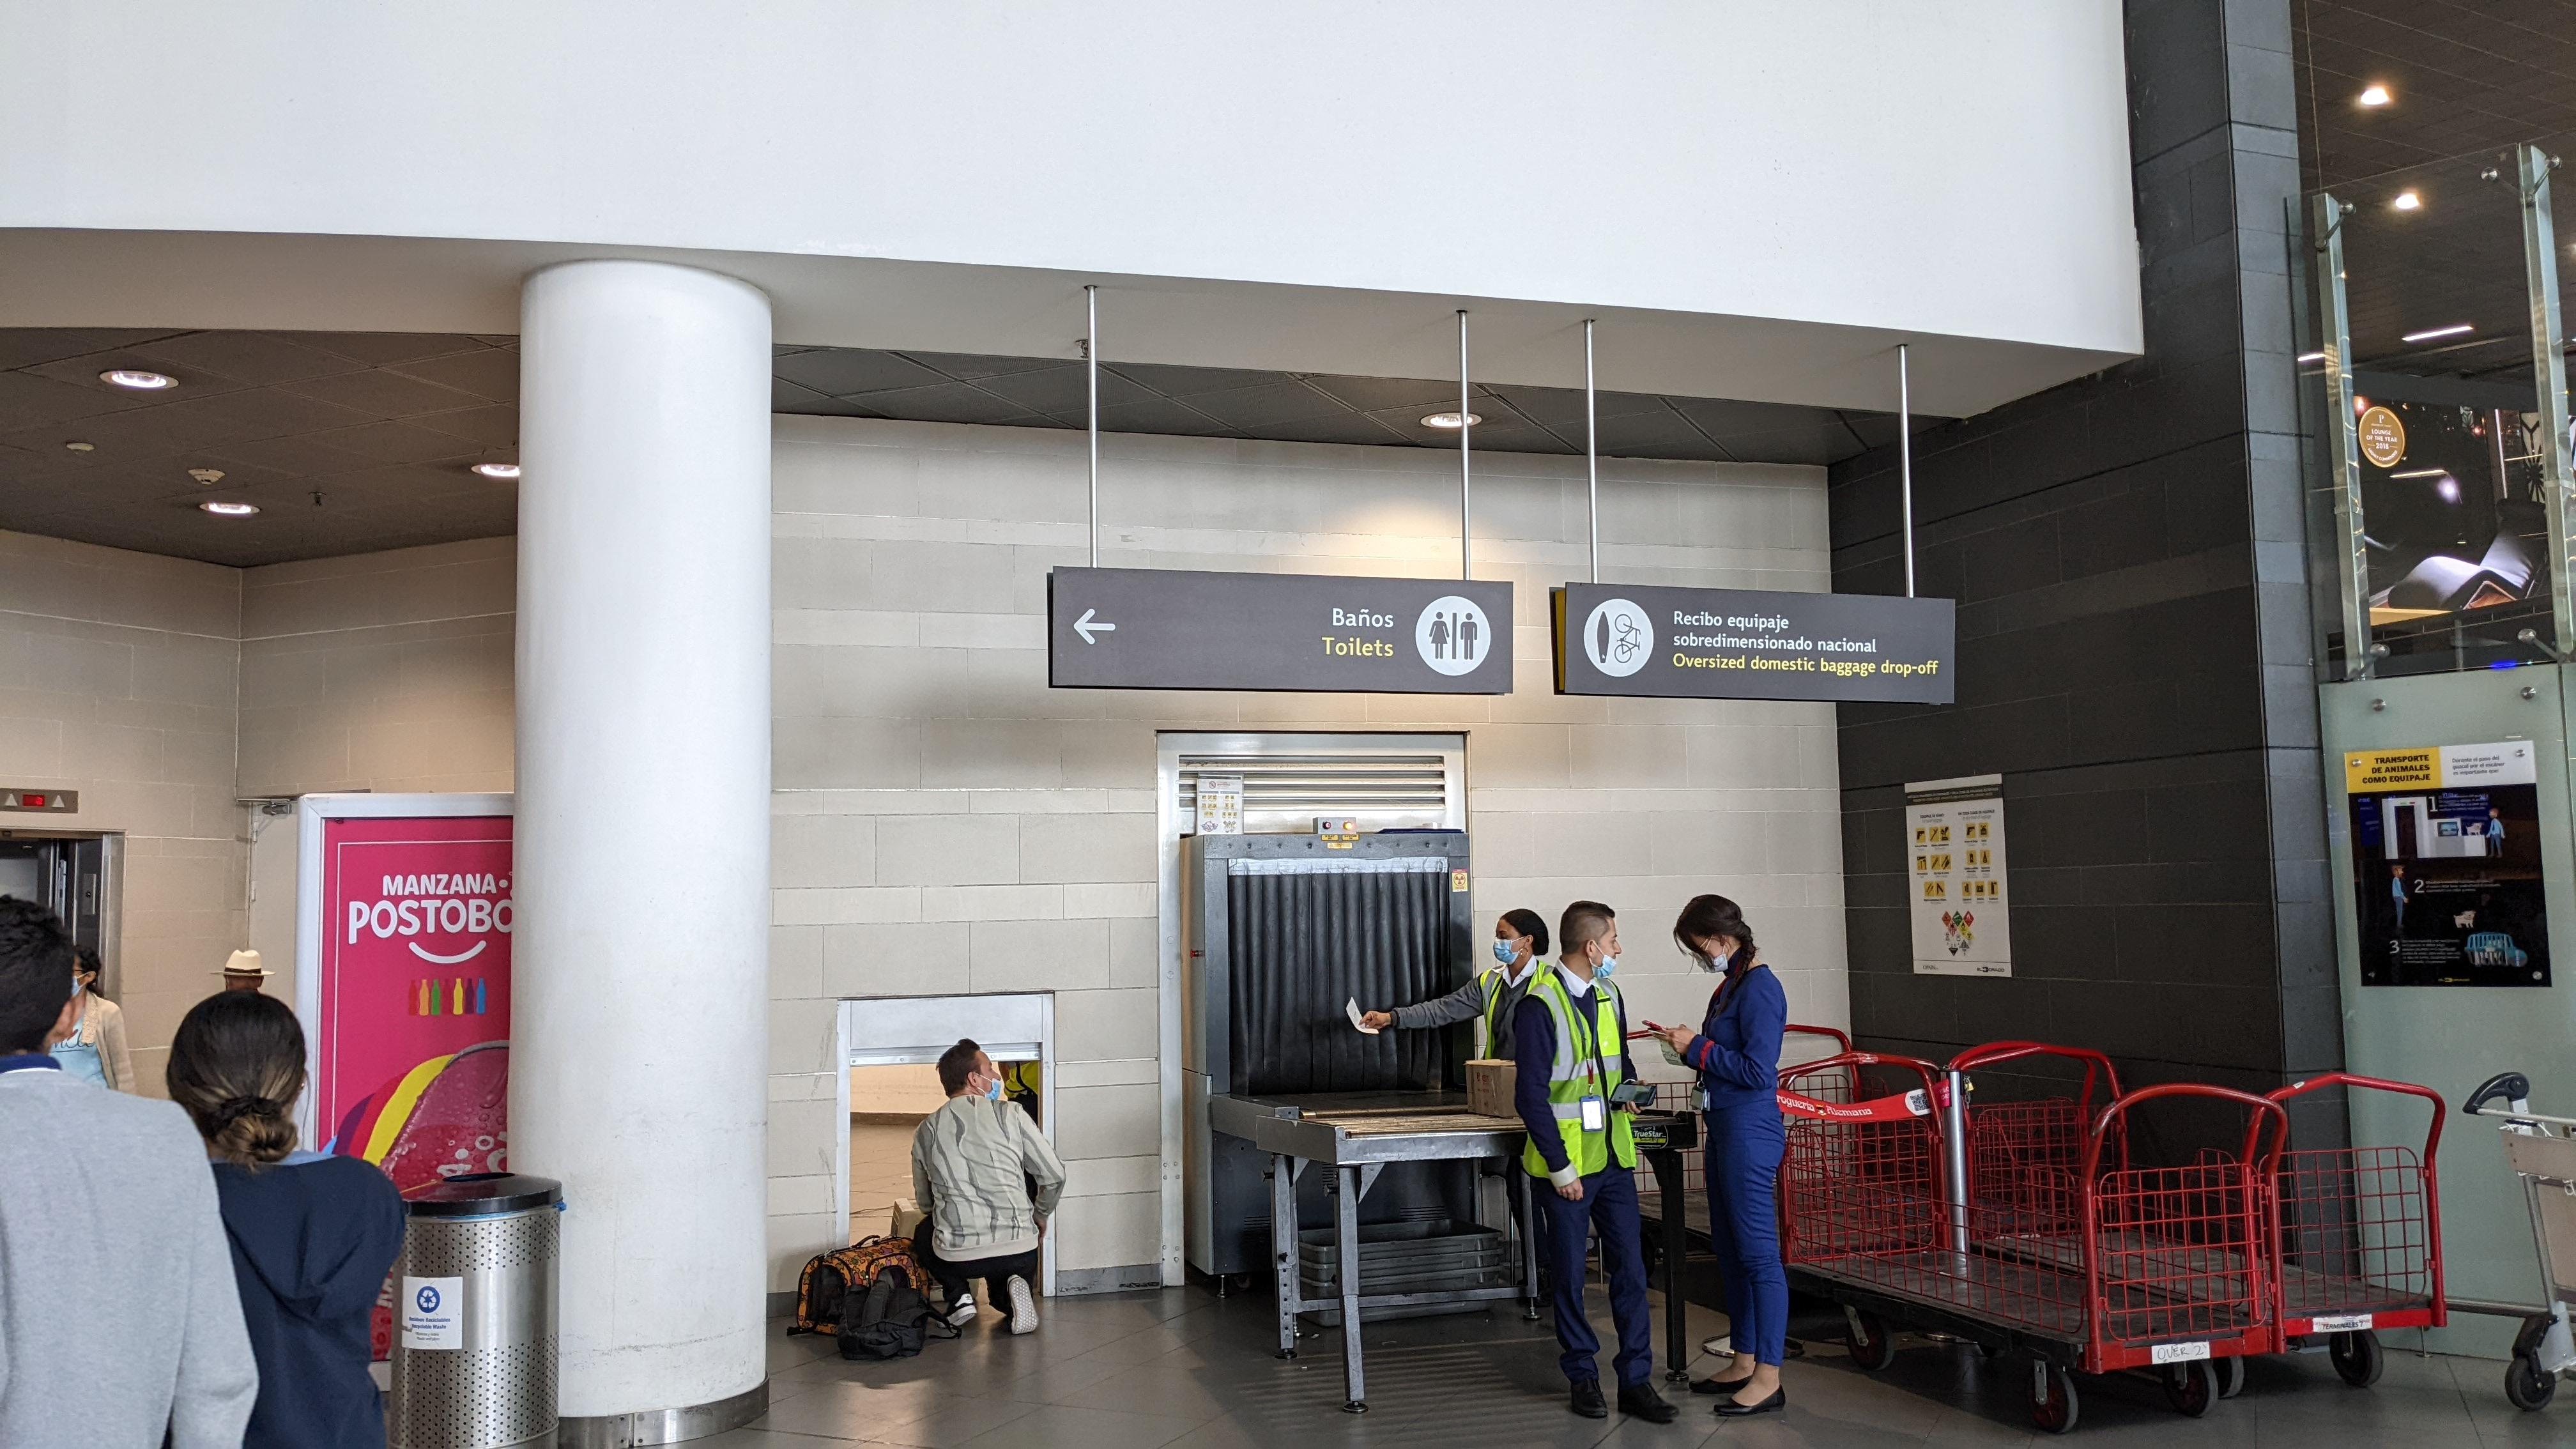bathrooms: (1428, 609, 1479, 663)
thin left arrow: (1069, 607, 1123, 646)
